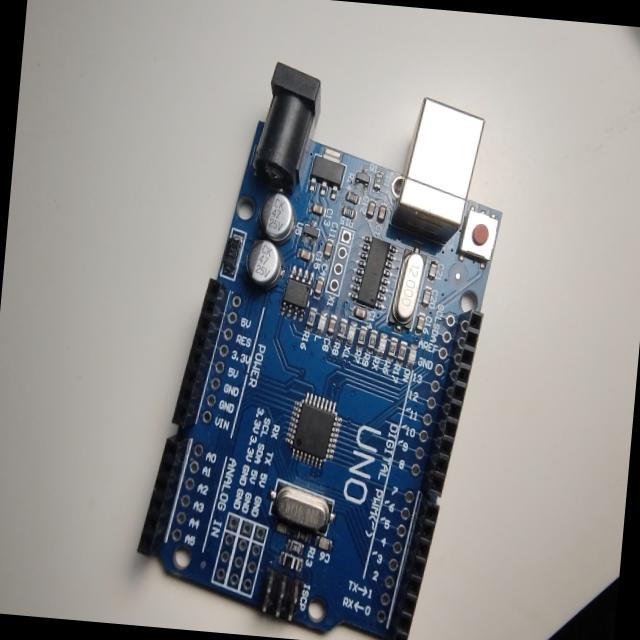arduino: (132, 26, 528, 640)
